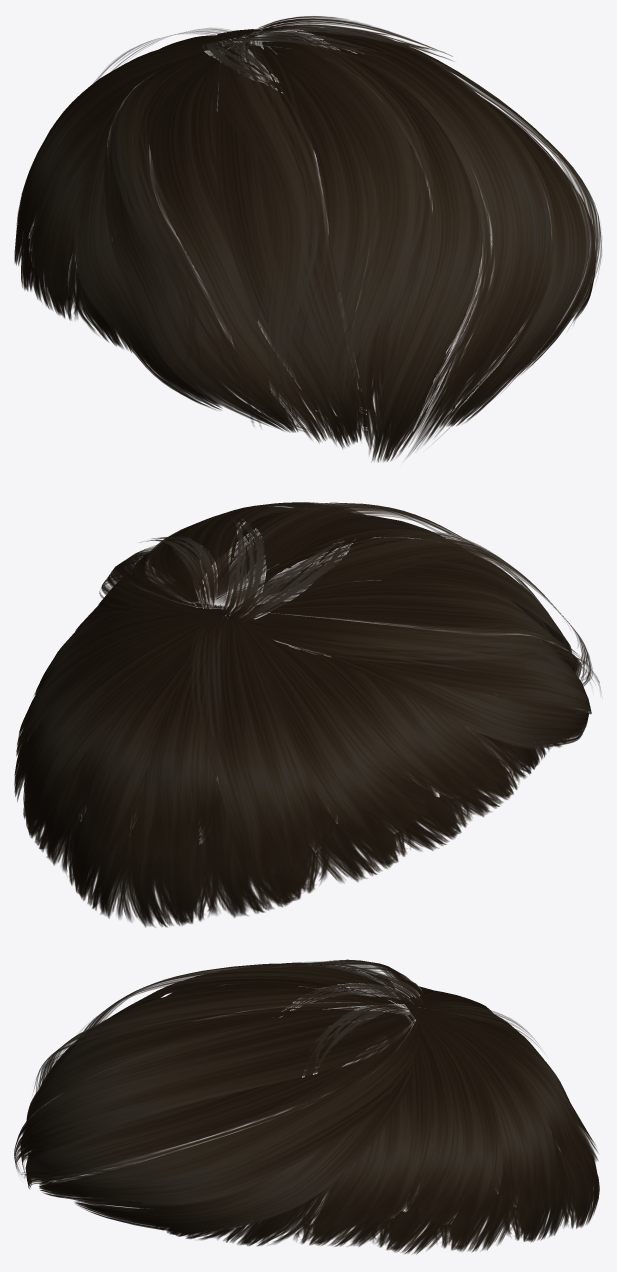
File: diamond_wavy_03 TexturedWavesbagus.glb
3 views of the same model, one above another, from view 1: azimuth 30°, elevation 25°; view 2: azimuth 150°, elevation 25°; view 3: azimuth 270°, elevation 25° (orthographic). The views are drawn at different scales.
Parts seen in each view (by area): view 1: round straight 03 french crop; view 2: round straight 03 french crop; view 3: round straight 03 french crop.
Part boxes in pixels (x1,y1,x2,y2): round straight 03 french crop: (14,16,601,462); round straight 03 french crop: (14,502,600,927); round straight 03 french crop: (14,959,599,1254).
Size of the model in its own units: 0.1792 by 0.1044 by 0.2342.
1 material, 1 textured.
